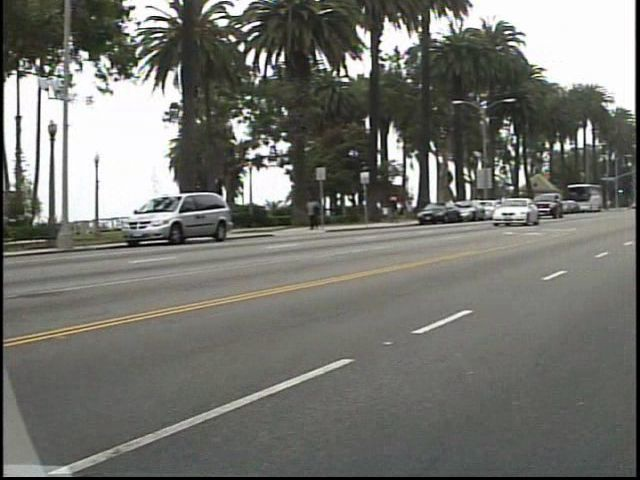person: (312, 196, 334, 235), (394, 190, 413, 224)
